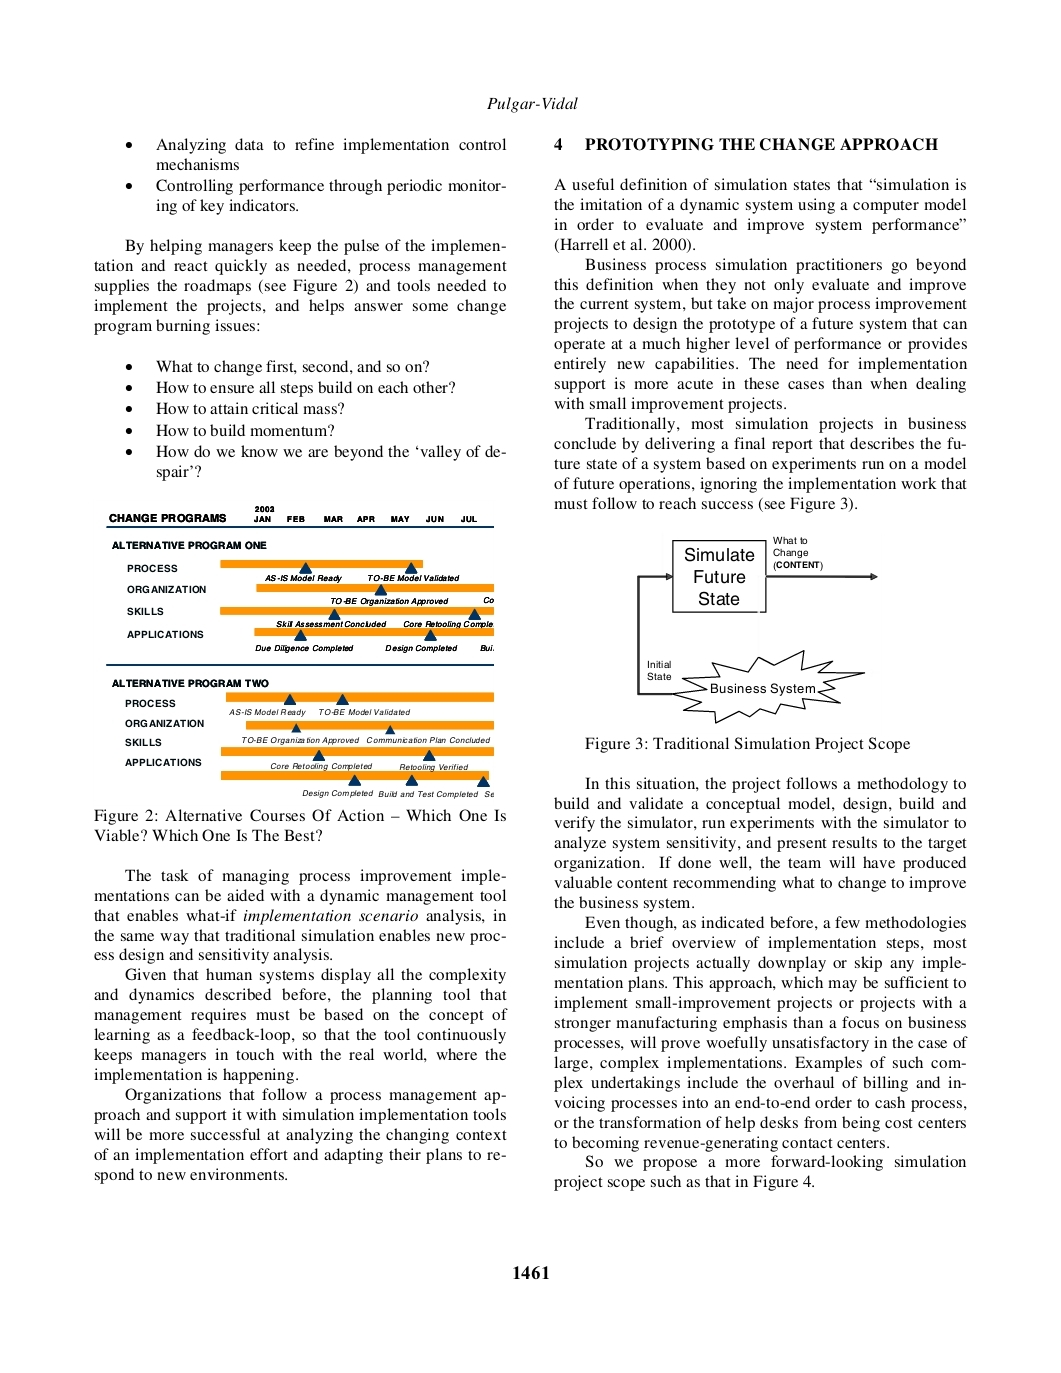figure: (106, 506, 494, 652), (111, 679, 494, 798), (637, 535, 877, 724)
